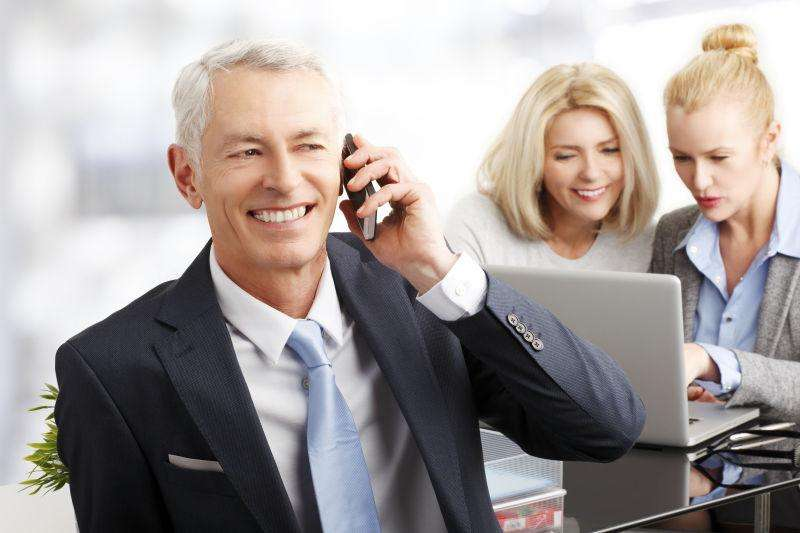calling: (336, 129, 447, 275)
